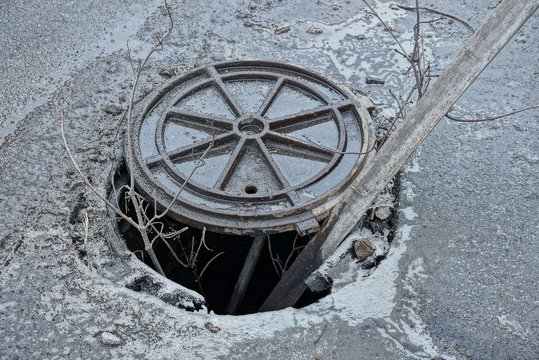open_manhole: (103, 208, 375, 312)
